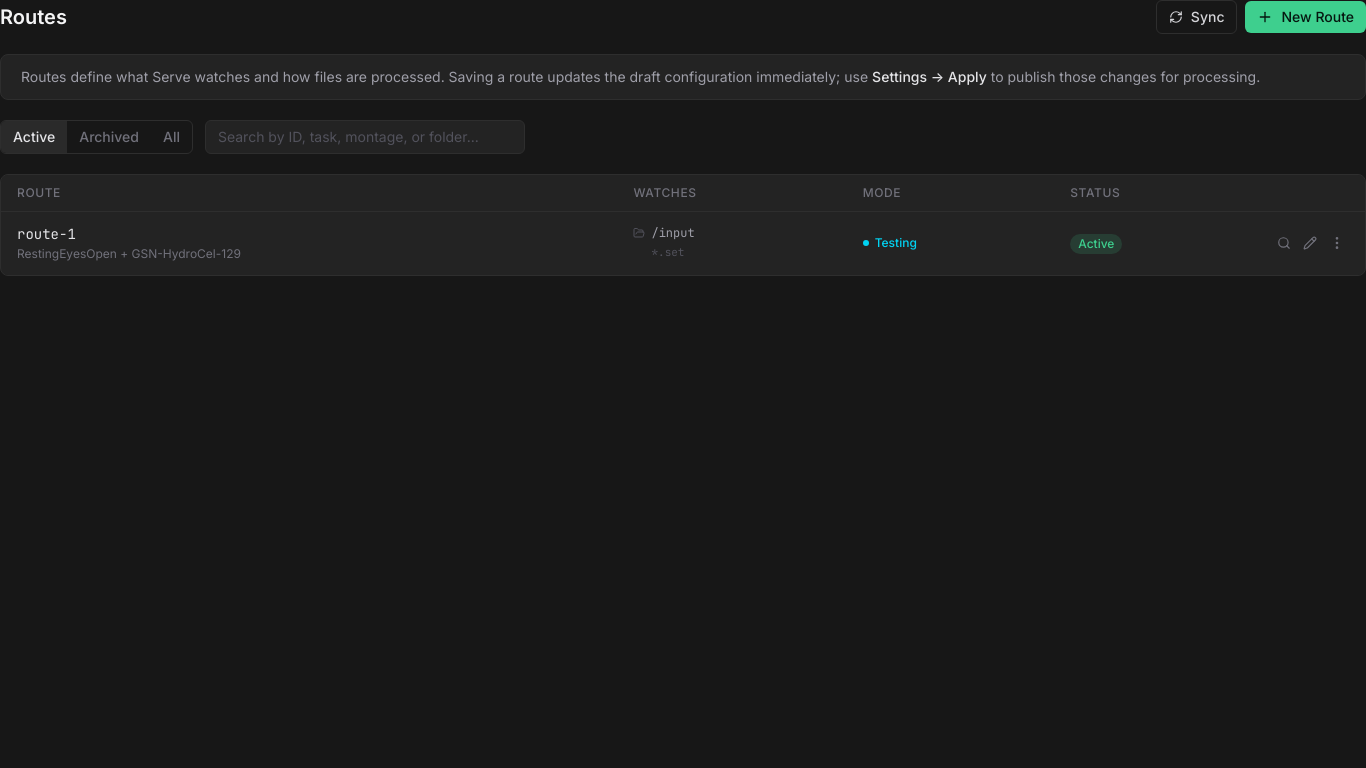
Scenario: Routes page actions › requires confirmation for archive and explains Apply semantics
The image size is (1366, 768).
Click the button named "Open actions for route route-1" at (1337, 243), box [1325, 231, 1349, 255]
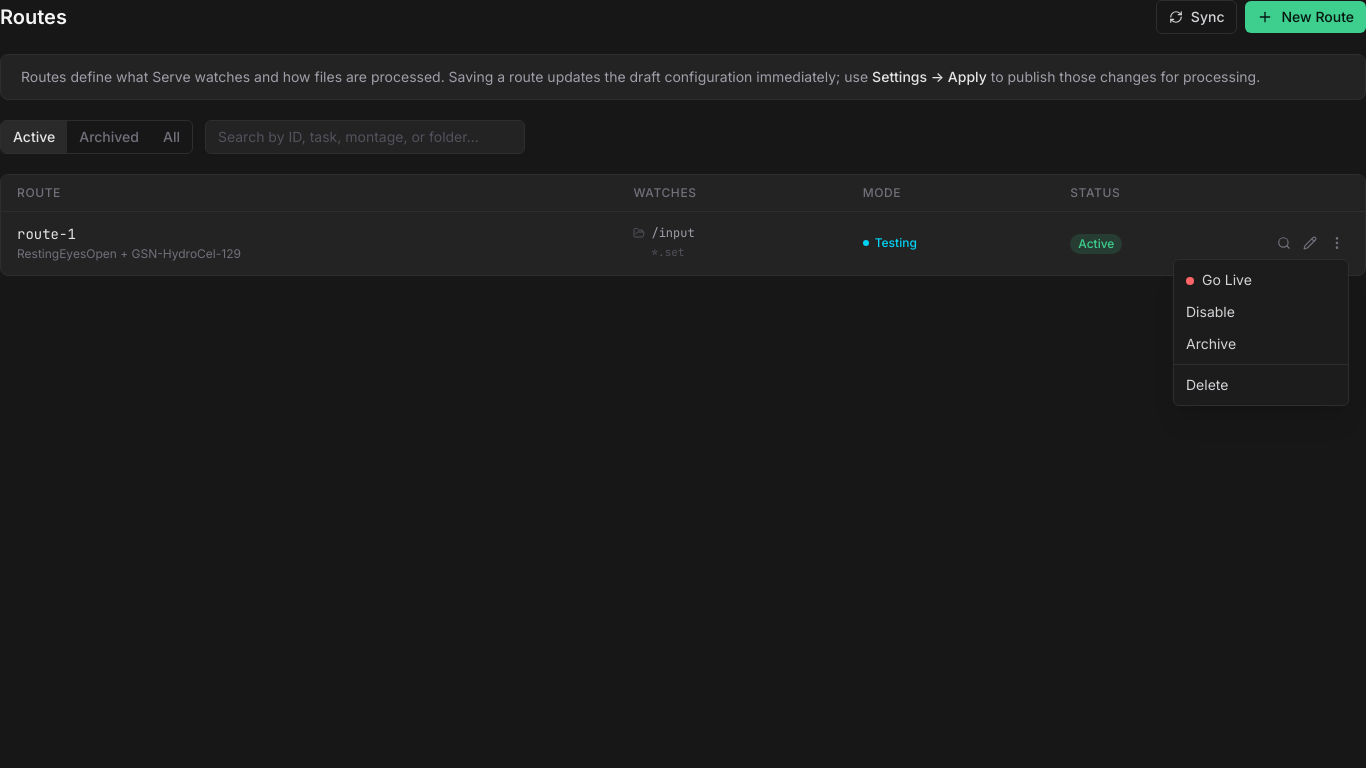
Click the button "Archive" at (1261, 344), box [1174, 328, 1348, 360]
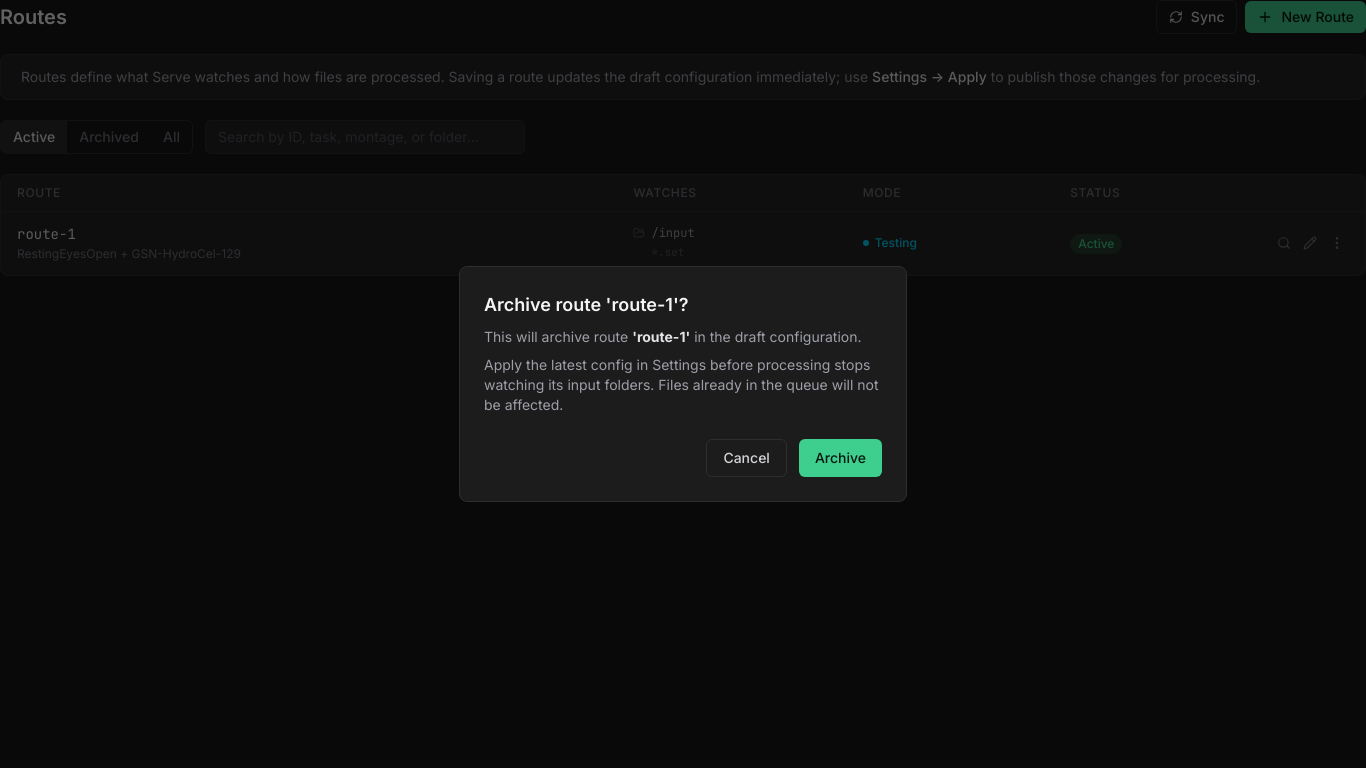
Expected: the heading "Archive route 'route-1'?" is shown, [484, 294, 689, 315]
Expected: the text "Apply the latest config in Settings before processing stops watching its input folders" is shown, [484, 356, 878, 413]
Click the button "Archive" at (840, 458), box [799, 439, 882, 477]
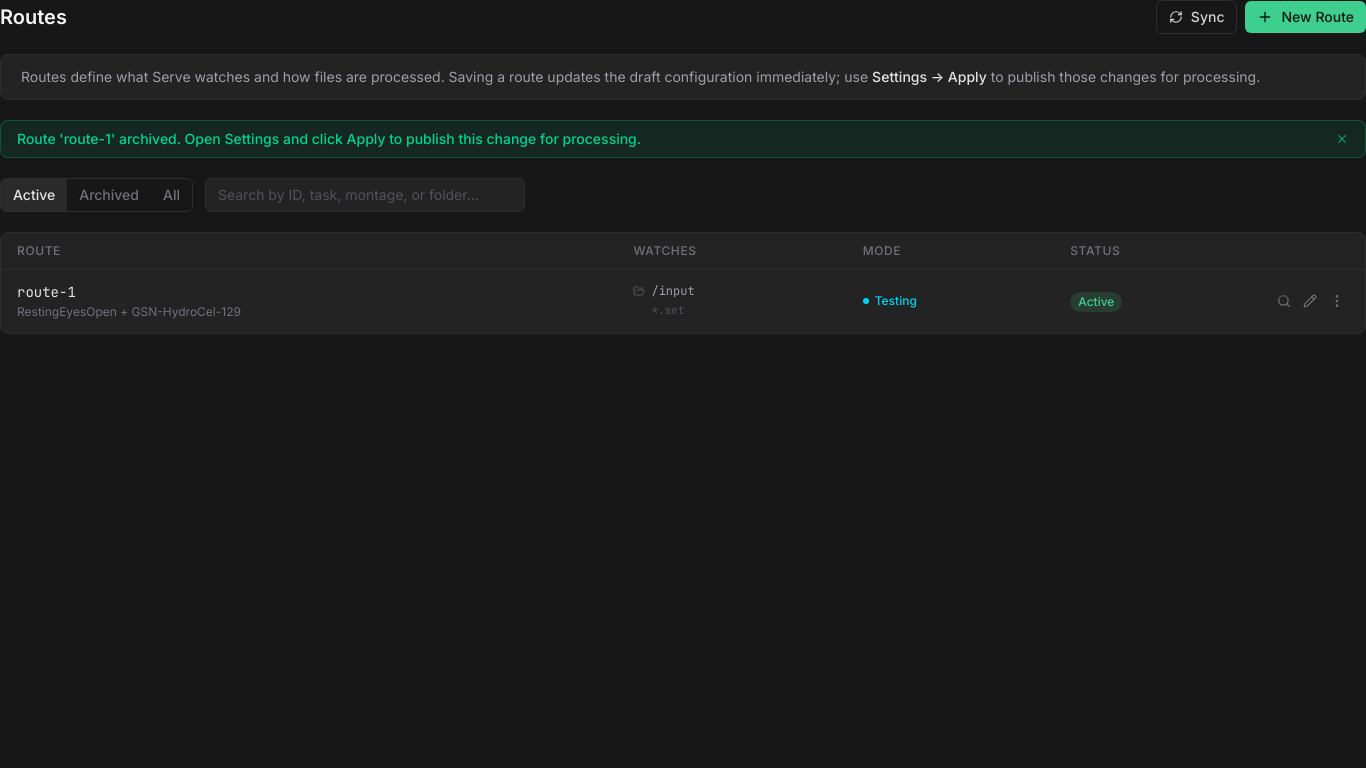
Expected: the text "Route 'route-1' archived. Open Settings and click Apply to publish this change for processing." is shown, [17, 130, 641, 147]
